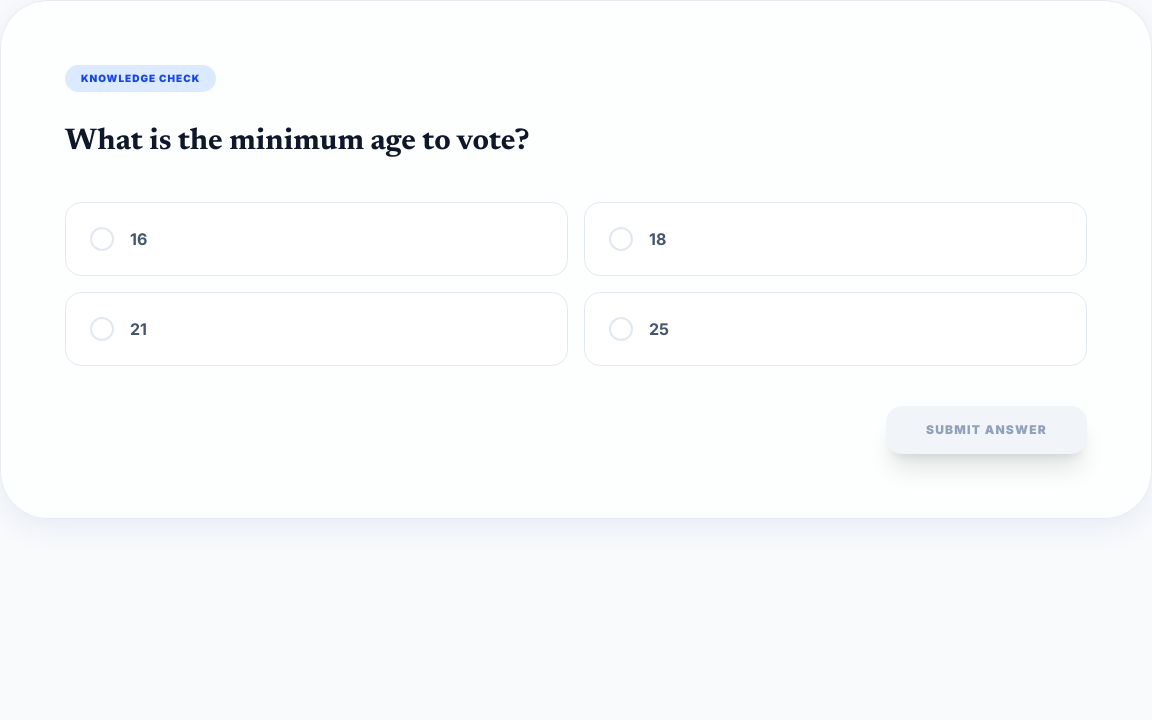
Test: QuizSection › shows wrong message for incorrect answer
The width and height of the screenshot is (1152, 720).
Click the button "16".
click(102, 238)  # box [65,202,568,276]
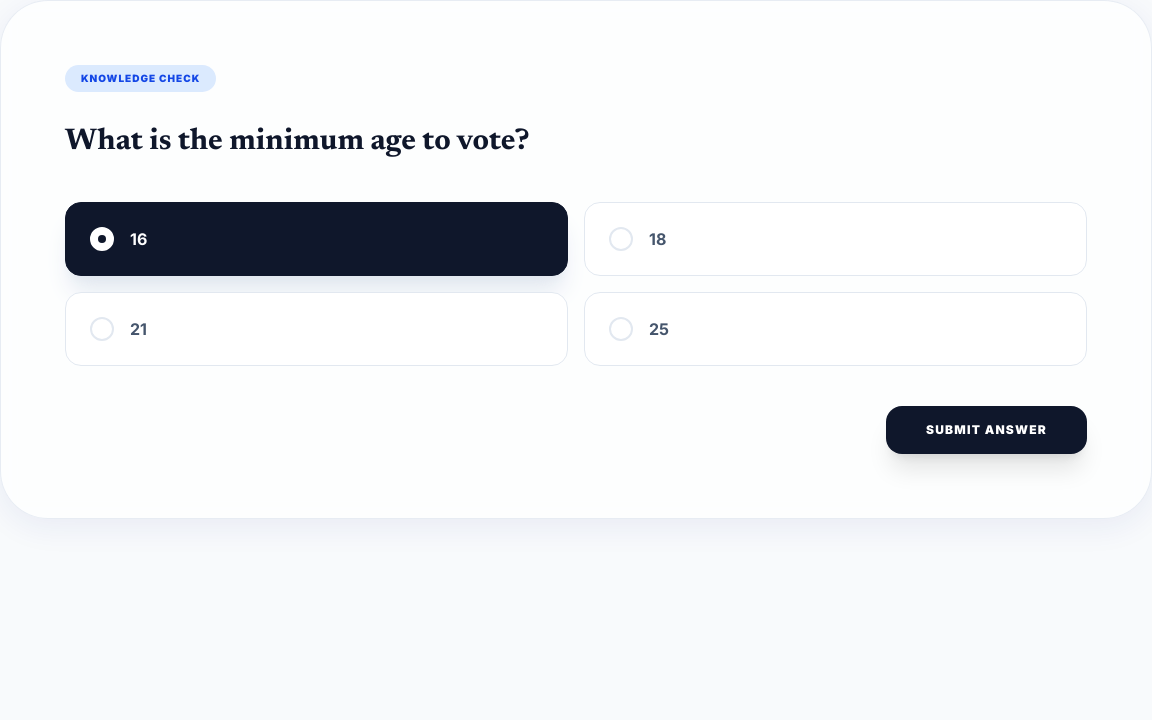
Click the button "Submit Answer".
click(986, 430)  # box [886,406,1087,454]
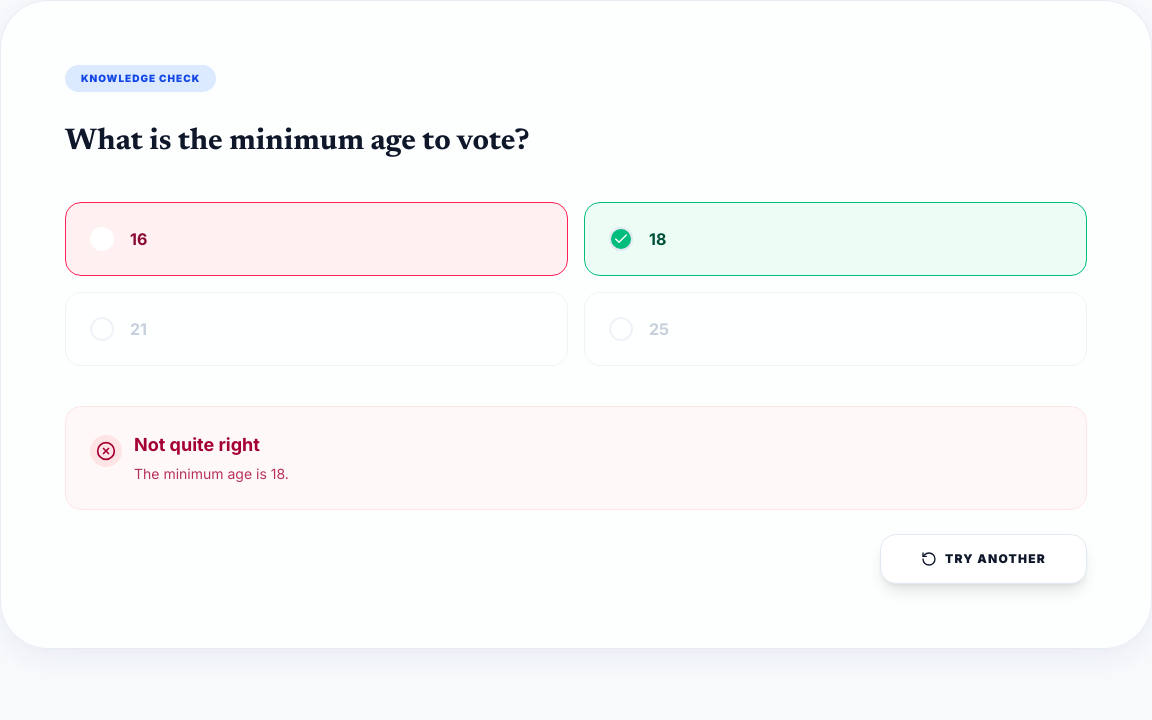
Now the text "Not quite right" is shown, box [134,434,260,454]
